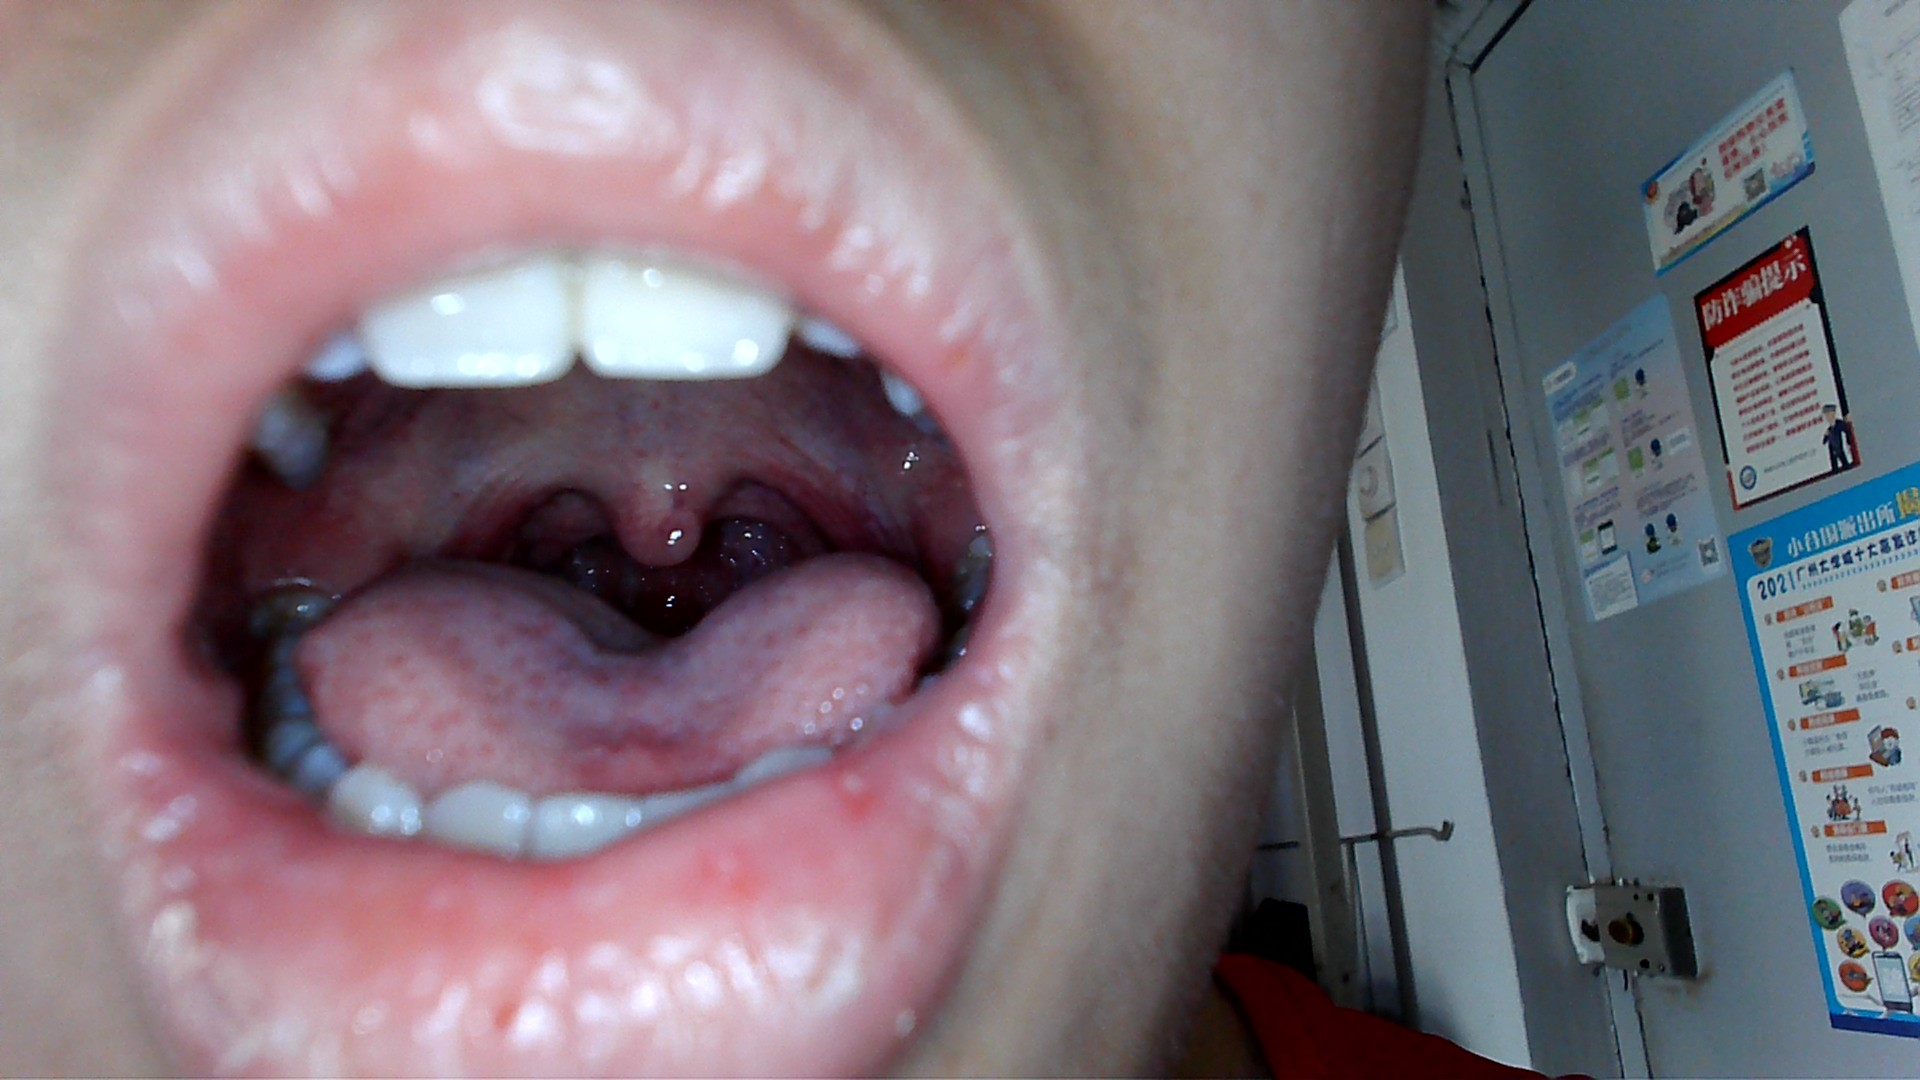throat: (430, 460, 546, 545), (762, 460, 870, 549)
